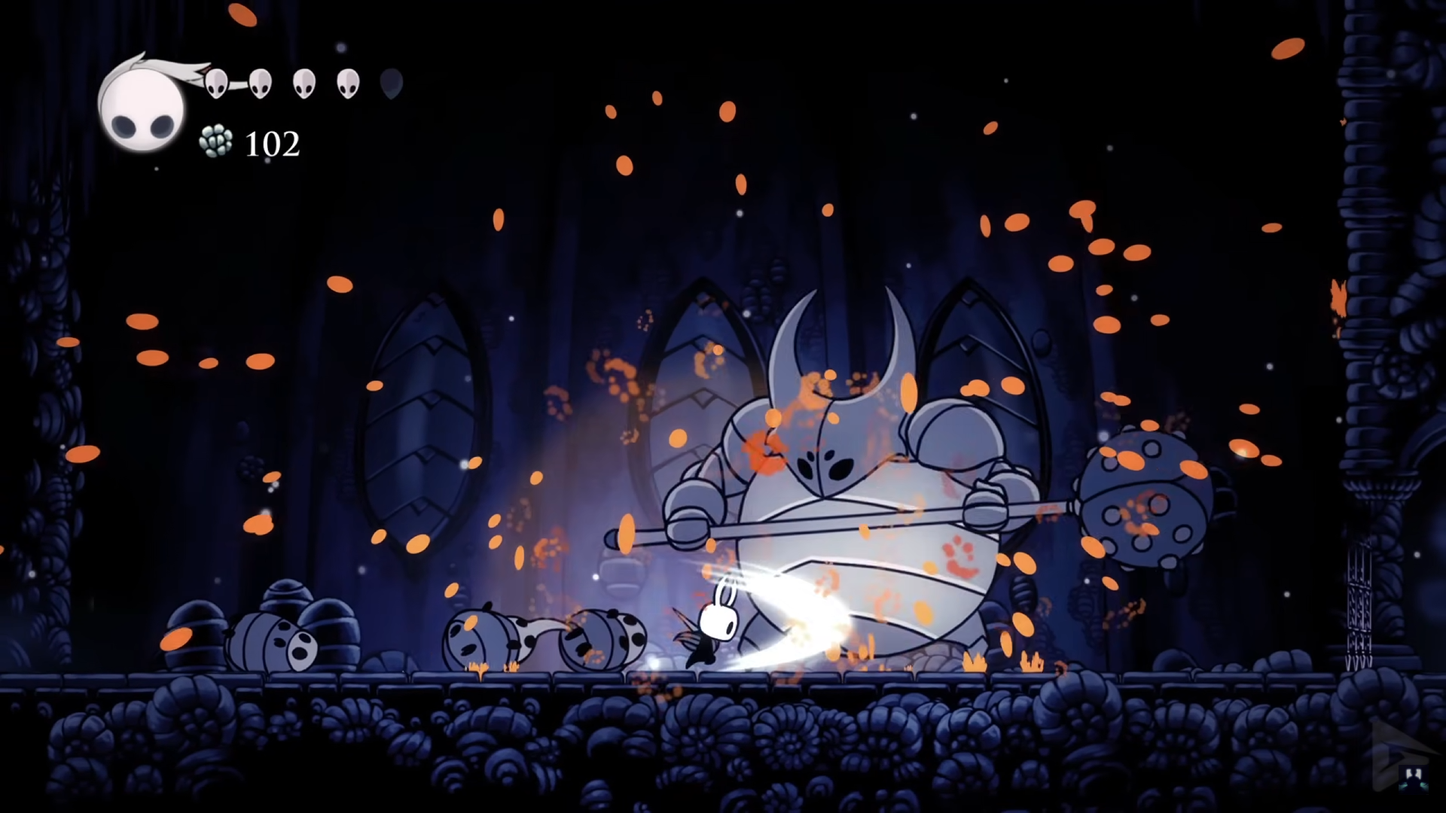HK: (687, 574, 746, 672)
